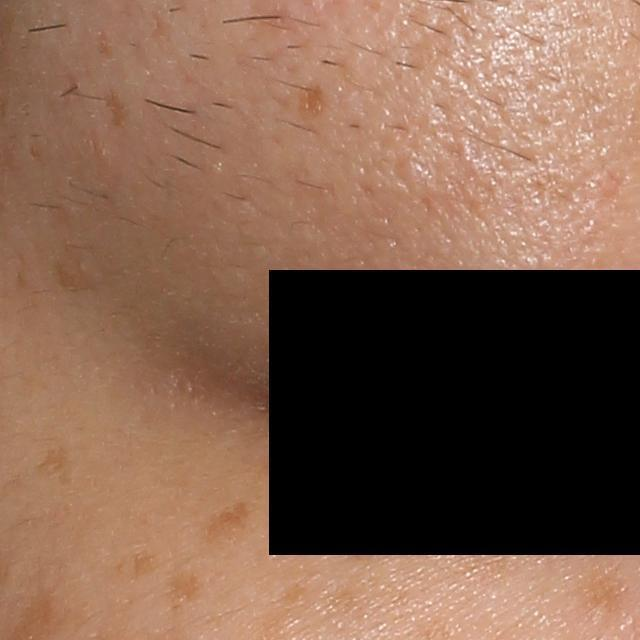melasma: (275, 58, 333, 139), (566, 564, 636, 616), (196, 495, 258, 551), (83, 68, 137, 132), (158, 566, 206, 619), (32, 443, 79, 493), (55, 256, 90, 294), (128, 547, 163, 584)
